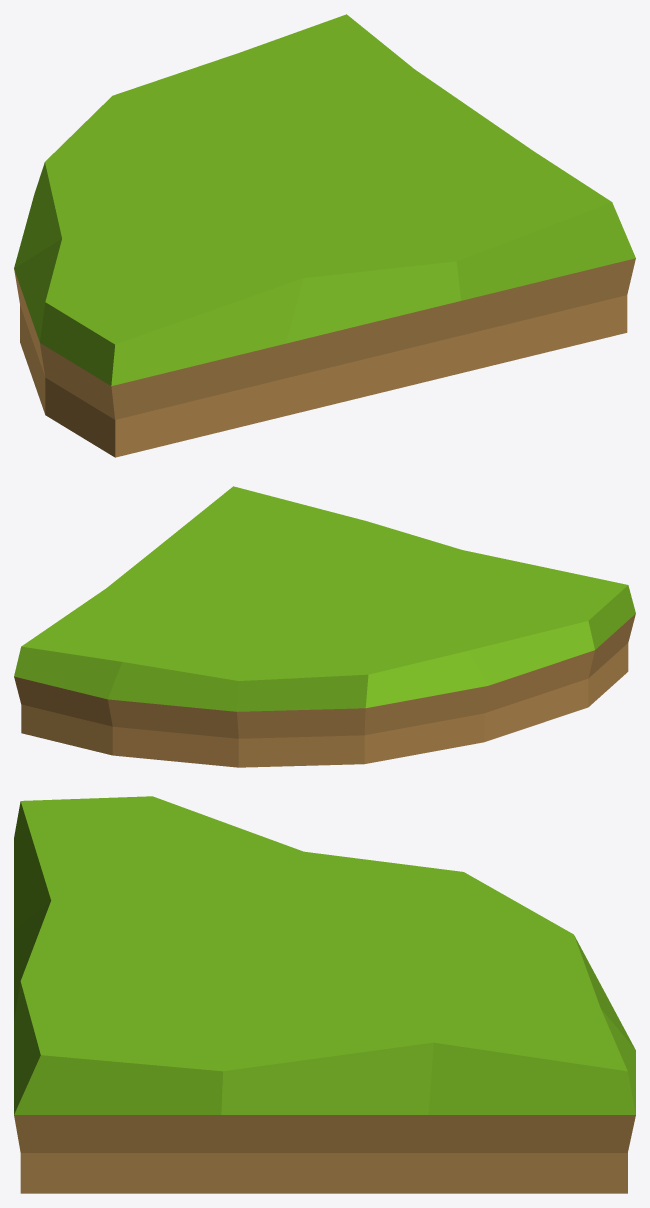
File: Turn_right.fbx
The picture shows the model from 3 angles, top to bottom: view 1: azimuth 30°, elevation 25°; view 2: azimuth 150°, elevation 25°; view 3: azimuth 270°, elevation 25°; orthographic projection. The views are drawn at different scales.
Parts seen in each view (by area): view 1: Turn_Right; view 2: Turn_Right; view 3: Turn_Right.
Part boxes in pixels (x1,y1,x2,y2): Turn_Right: (14, 14, 635, 457); Turn_Right: (14, 486, 635, 767); Turn_Right: (14, 796, 635, 1193).
Size of the model in its own units: 400 by 92.29 by 373.
